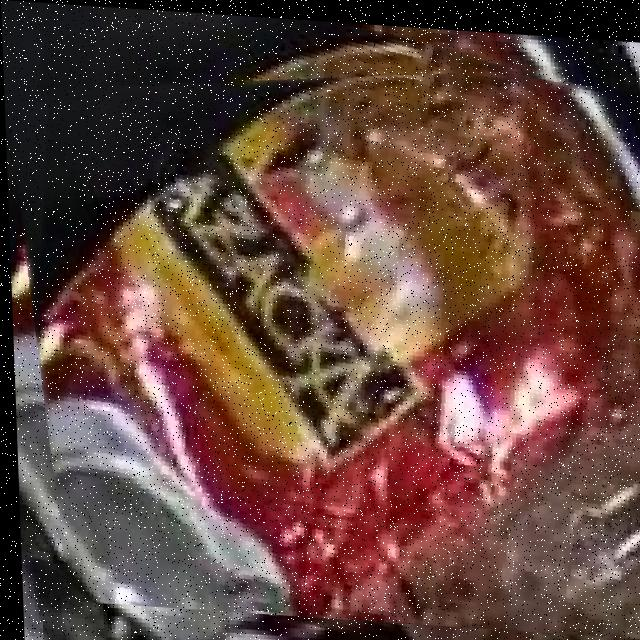litter: (29, 66, 640, 616)
